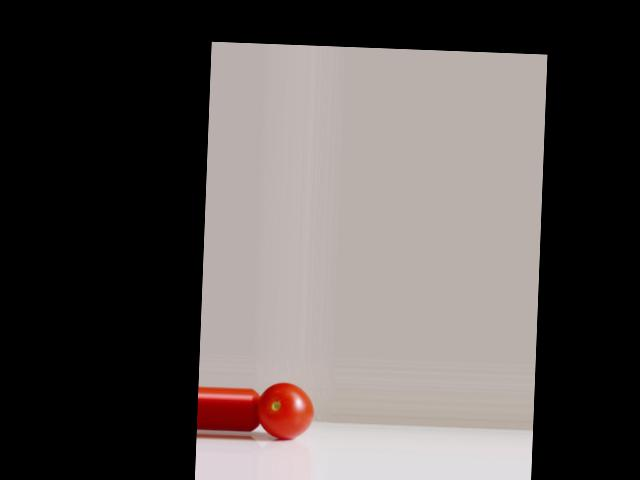tomato: (256, 381, 314, 439)
